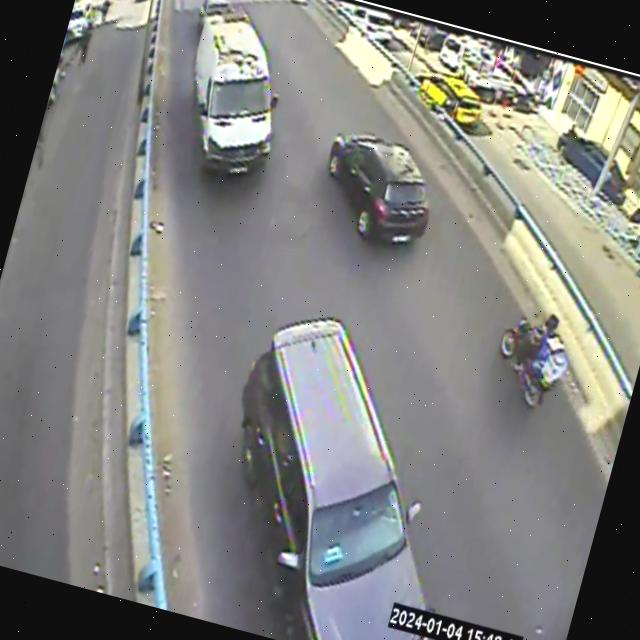car: (240, 317, 430, 640), (193, 6, 278, 172), (328, 134, 429, 242), (419, 74, 481, 129)
